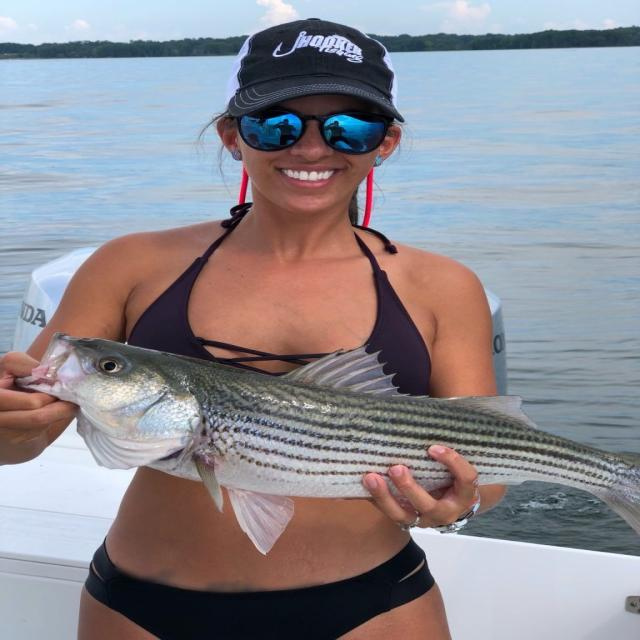Bass - Striped: (17, 334, 638, 553)
